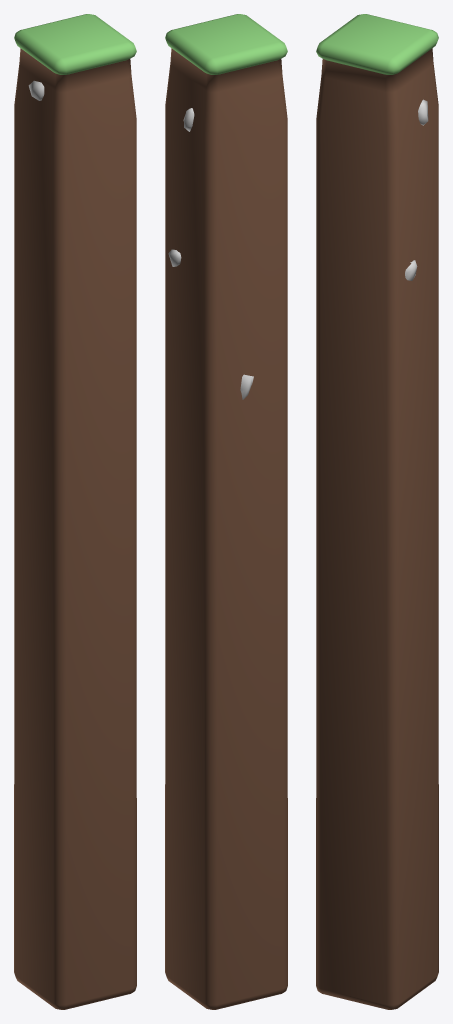
Rendered from Block_Earth.fbx.
3 renders of one model, left to right at view 1: azimuth 30°, elevation 25°; view 2: azimuth 210°, elevation 25°; view 3: azimuth 330°, elevation 25°, orthographic.
Visible parts, largest first — view 1: Earth; view 2: Earth; view 3: Earth.
Boxes of the visible parts, <box> form: Earth: <box>14,14,136,1009</box>; Earth: <box>165,14,287,1009</box>; Earth: <box>316,14,438,1009</box>.
Size of the model in its own units: 110 by 1100 by 105.
